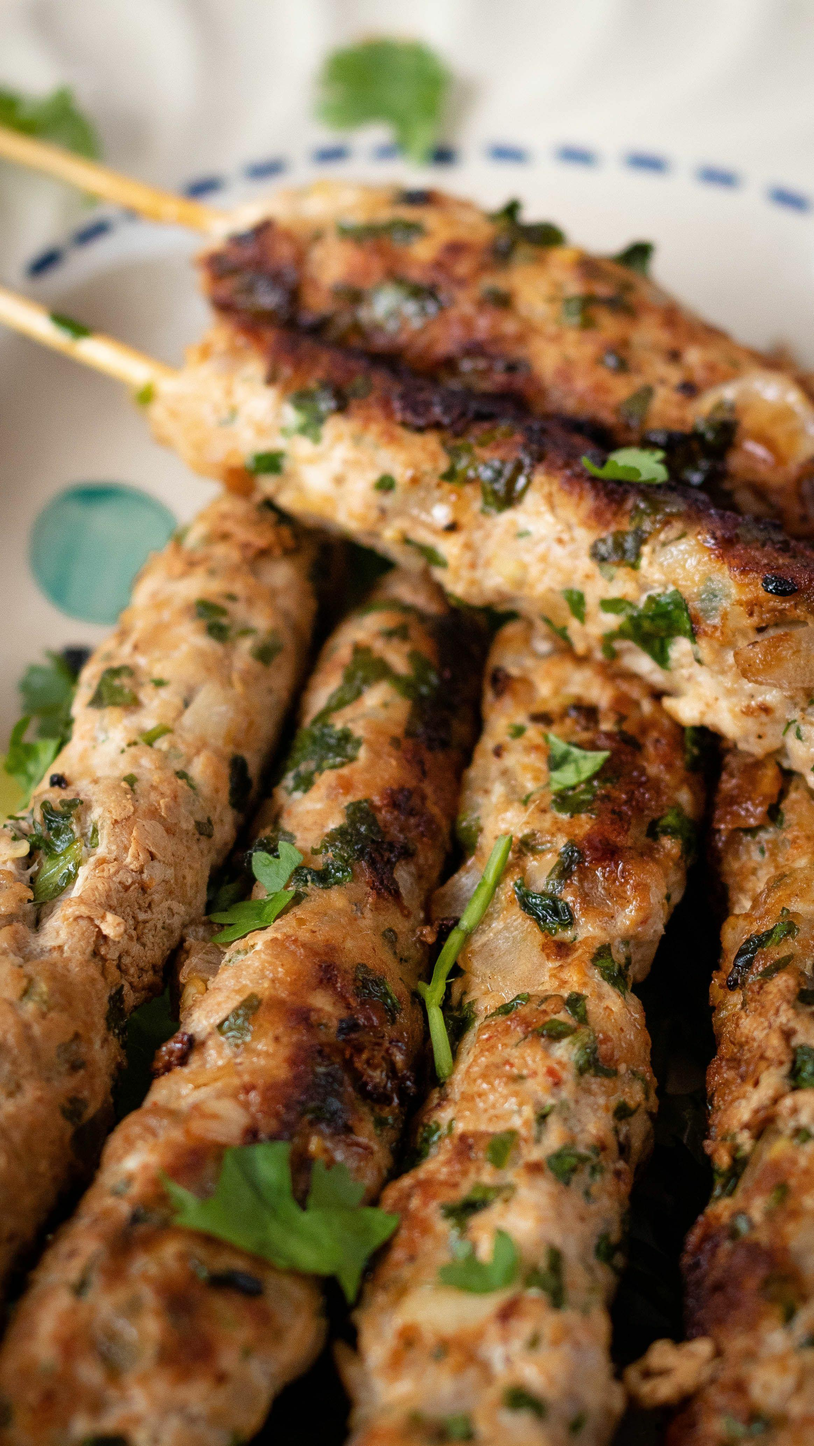Kebab: (0, 568, 468, 1446), (141, 322, 814, 772), (333, 624, 690, 1446), (0, 483, 321, 1321), (206, 185, 811, 540), (688, 699, 814, 1446)
